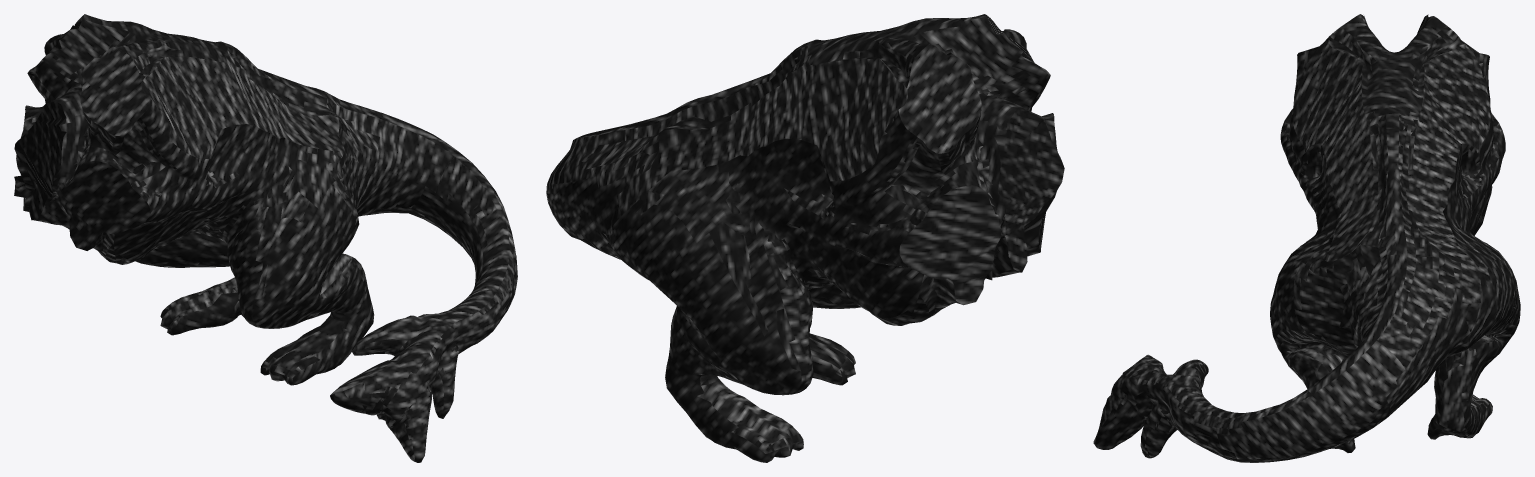
Rendered from CuerpoD.obj.
The picture shows the model from 3 angles, left to right: view 1: azimuth 30°, elevation 25°; view 2: azimuth 150°, elevation 25°; view 3: azimuth 270°, elevation 25°; orthographic projection. The views are drawn at different scales.
Visible parts, largest first — view 1: 17174_Tiamat; view 2: 17174_Tiamat; view 3: 17174_Tiamat.
Part boxes in pixels (x1,y1,x2,y2): 17174_Tiamat: [14, 14, 517, 462]; 17174_Tiamat: [546, 14, 1064, 462]; 17174_Tiamat: [1093, 14, 1520, 462].
Bounding box in the file's own units: 23.95 × 19.38 × 21.12.
